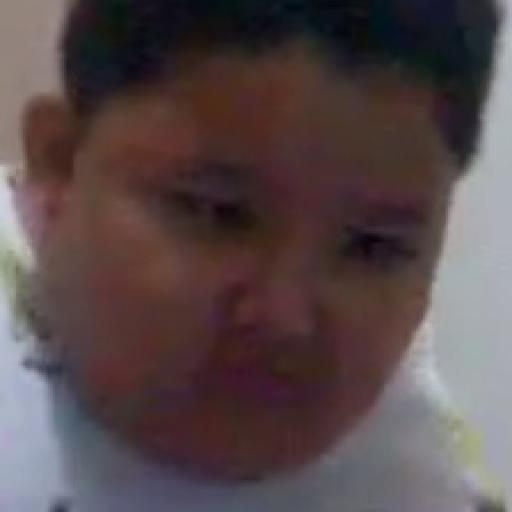Autism: (64, 34, 482, 512)
